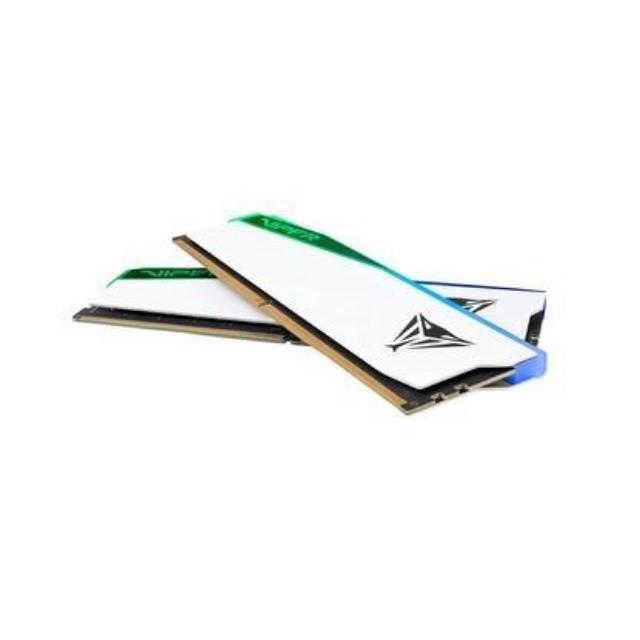RAM: (45, 197, 590, 423)
